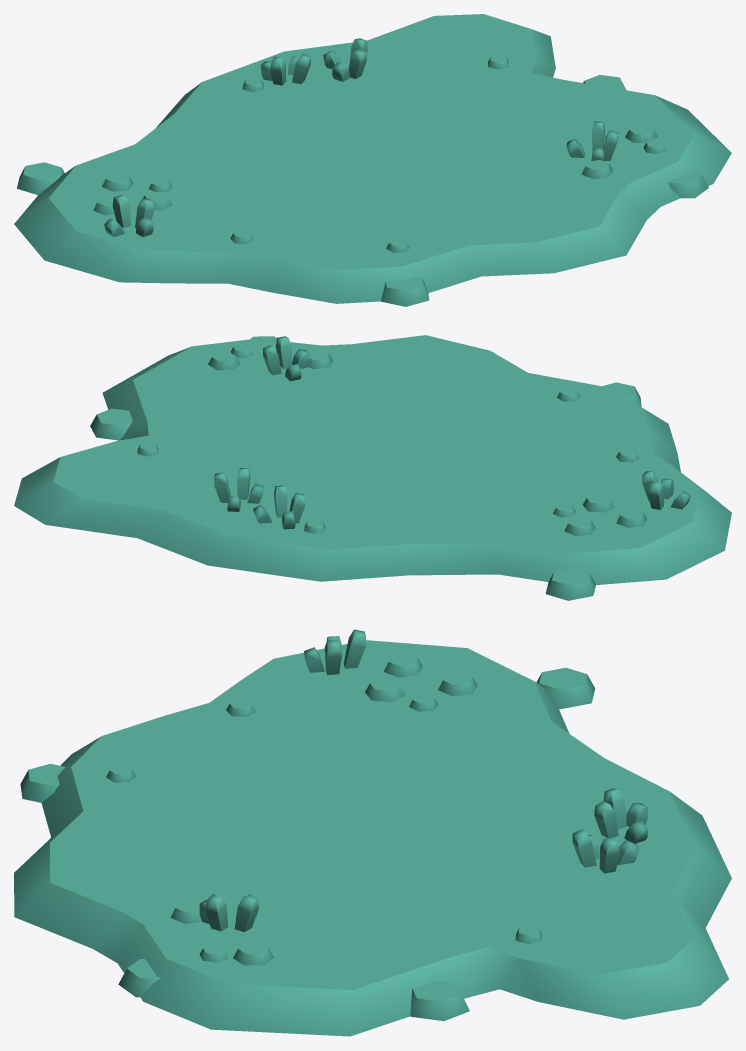
The model's file is patch-sand-foliage.fbx.
3 renders of one model, top to bottom at view 1: azimuth 30°, elevation 25°; view 2: azimuth 150°, elevation 25°; view 3: azimuth 270°, elevation 25°, orthographic. The views are drawn at different scales.
Parts seen in each view (by area): view 1: patch-sand-foliage; view 2: patch-sand-foliage; view 3: patch-sand-foliage.
Boxes of the visible parts, x1,y1,x2,y2 form: patch-sand-foliage: (14, 14, 731, 306); patch-sand-foliage: (14, 335, 731, 600); patch-sand-foliage: (14, 629, 731, 1036).
Bounding box in the file's own units: 774 × 56.39 × 604.
